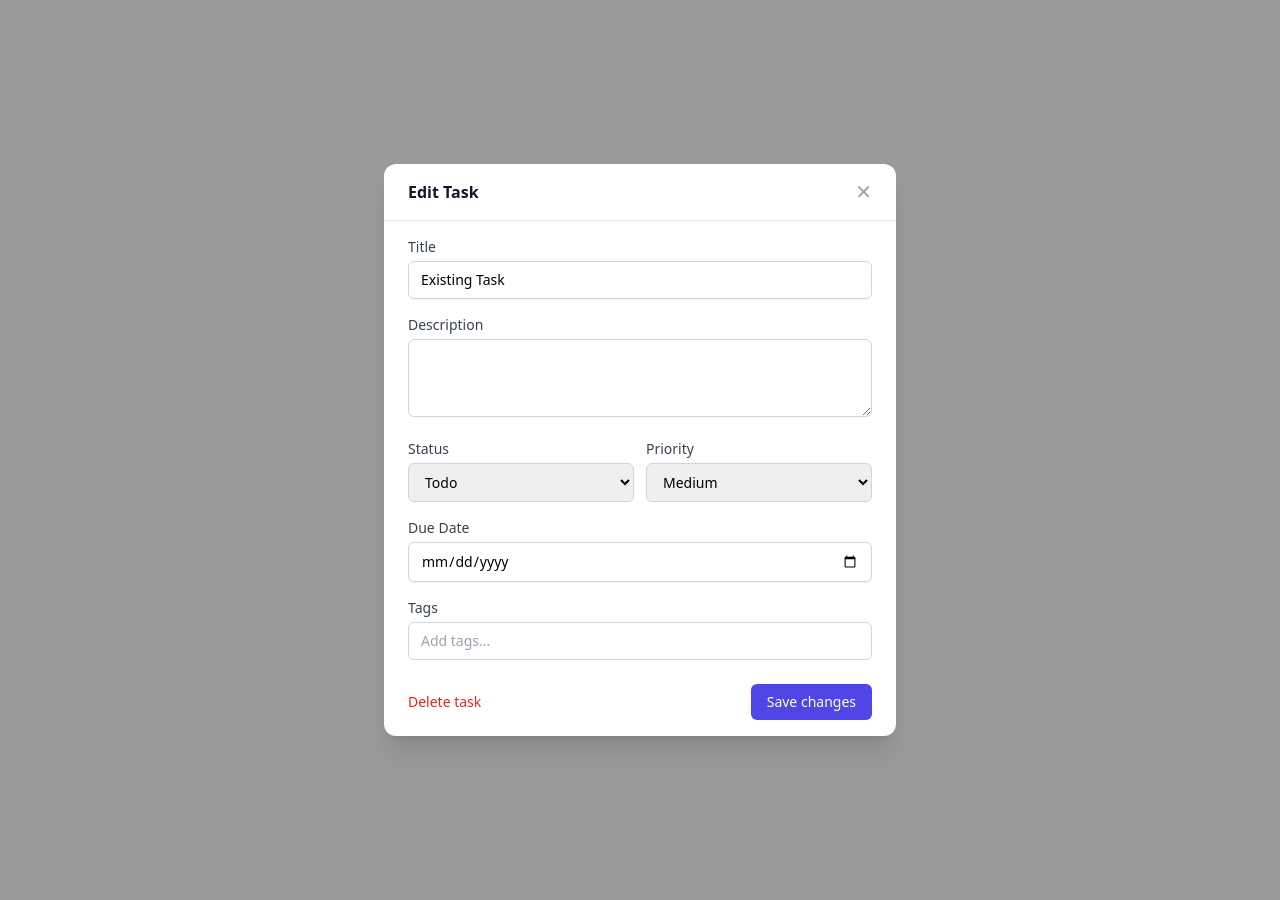
TaskModal › shows ConfirmDialog when Delete task is clicked in edit mode
This screenshot has width=1280, height=900.
Click the button "Delete task" at (445, 702), box [408,692,481,712]
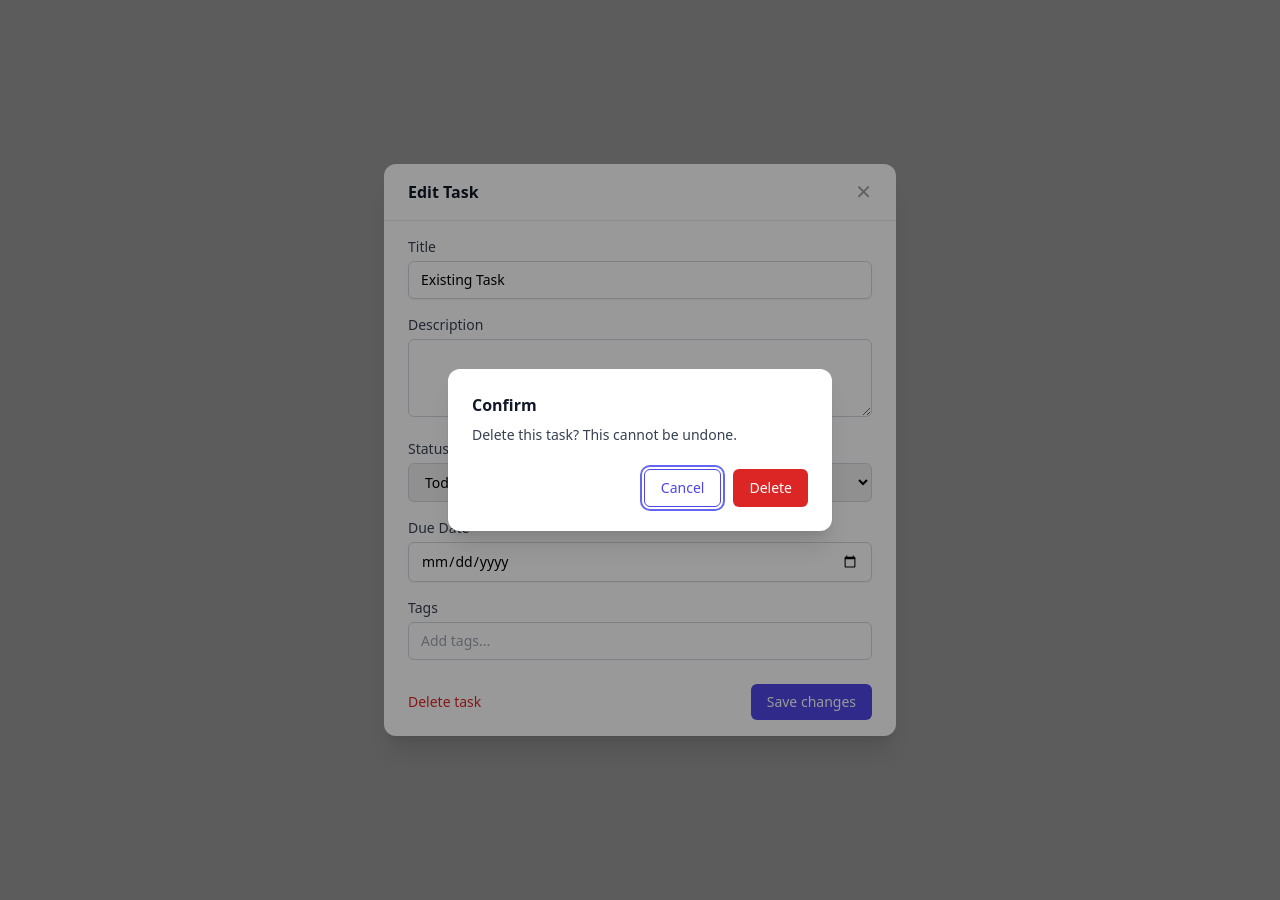
Check: the text "Delete this task? This cannot be undone." is shown, box [472,425,737,444]
